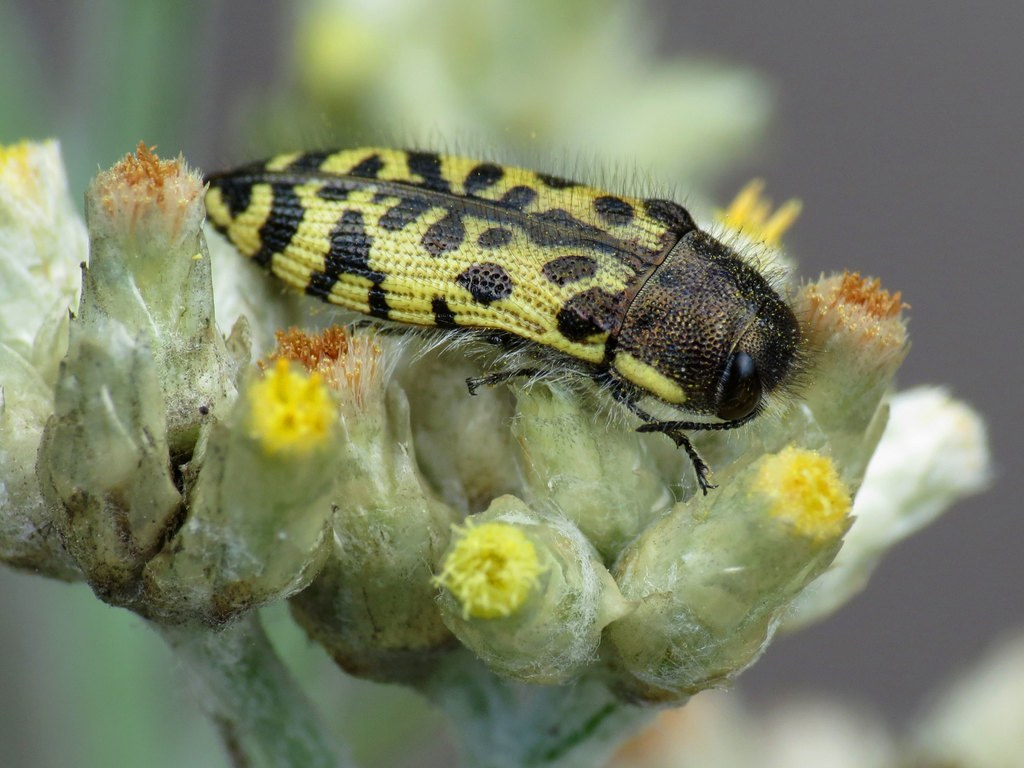insect: (0, 130, 999, 712), (198, 125, 822, 491)
